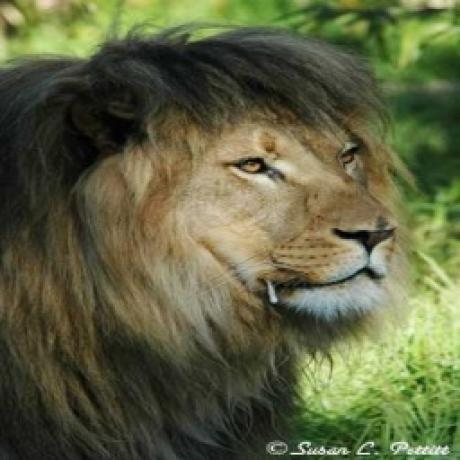Lion: (0, 20, 406, 460)
